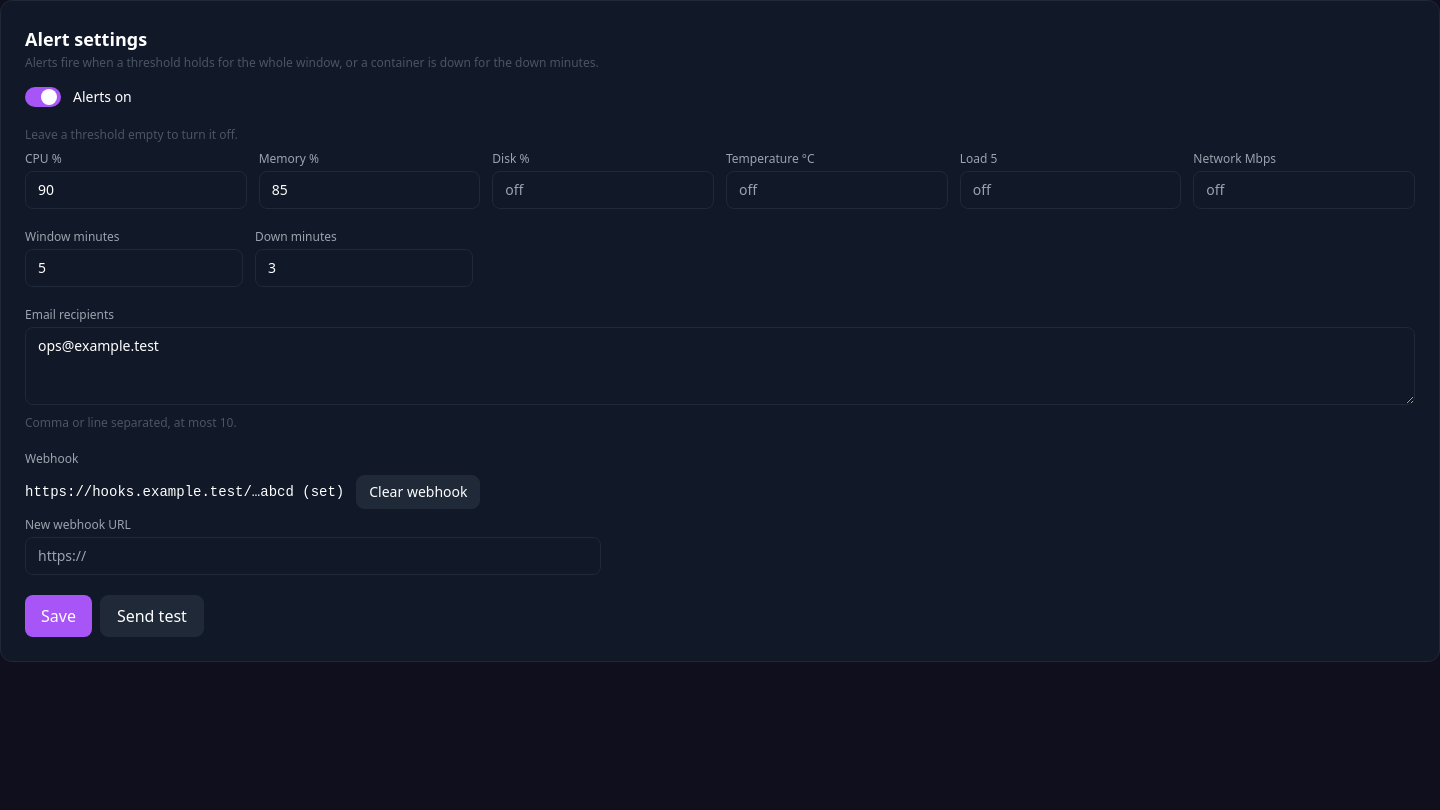
Scenario: AlertSettingsCard › a refused test is shown
This screenshot has width=1440, height=810.
Click the button "Send test". click: coordinates (152, 616)
box: [100,595,204,637]
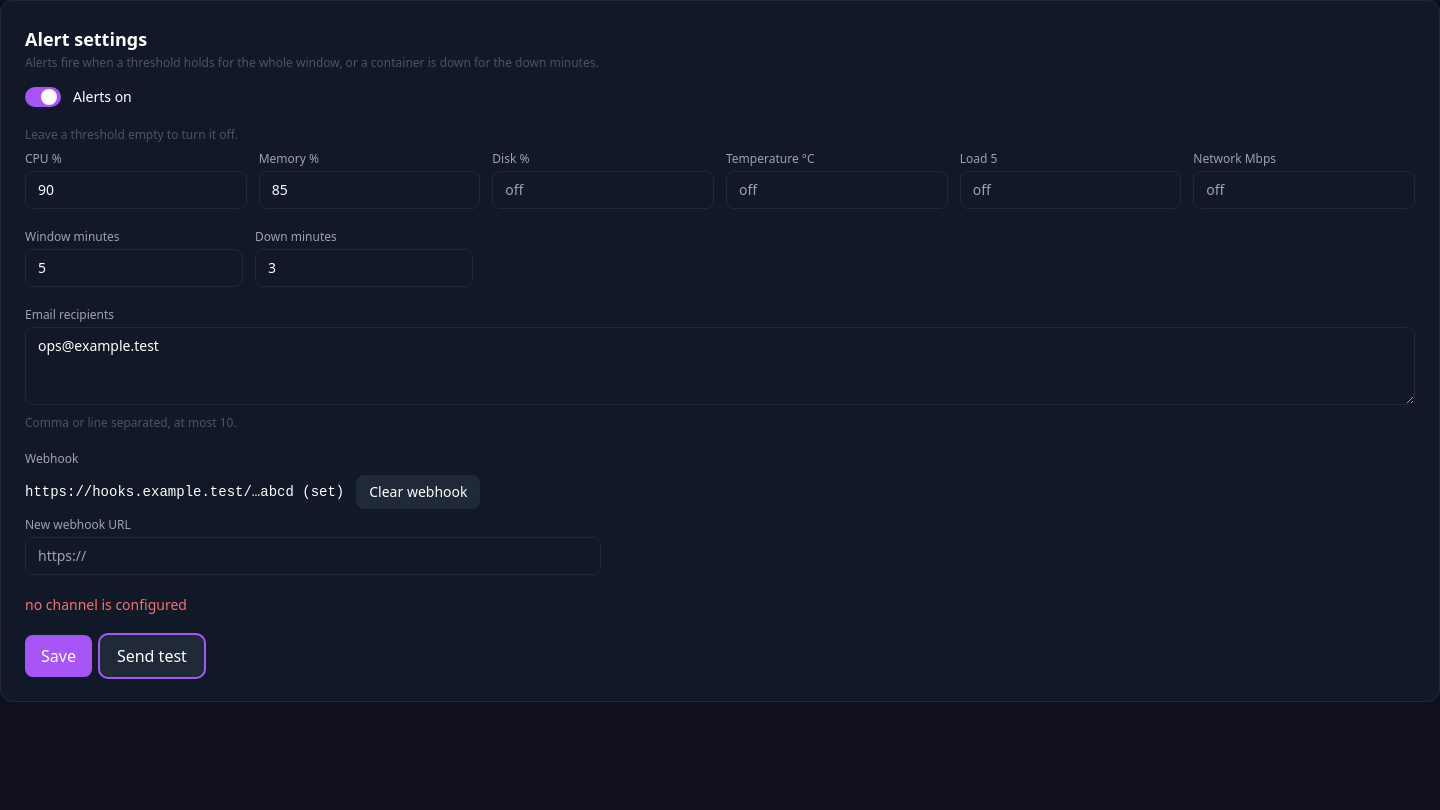
Now the message reads "no channel is configured", box [25,595,187,614]
